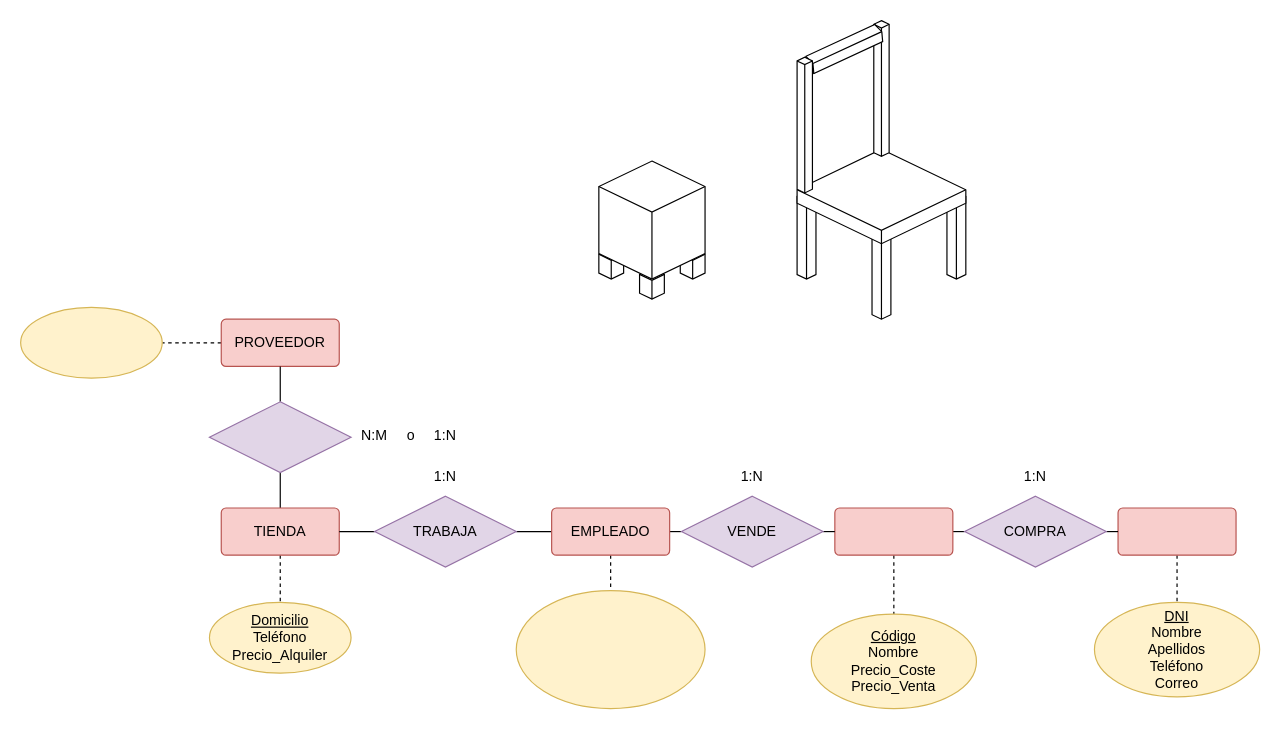
The diagram is 1280 pixels wide and 729 high, and some of its shapes have lost their labels. The shapes that lost their labels are listed below. From the top down, each one's centre as x and y in pixels, then its label:
At point 90,342: "Nombre Teléfono".
At point 279,437: "COMPRA_A".
At point 893,531: "MÓVIL".
At point 1176,531: "CLIENTE".
At point 610,649: "DNI Nombre Apellidos Teléfono Correo Nº_Cuenta".
